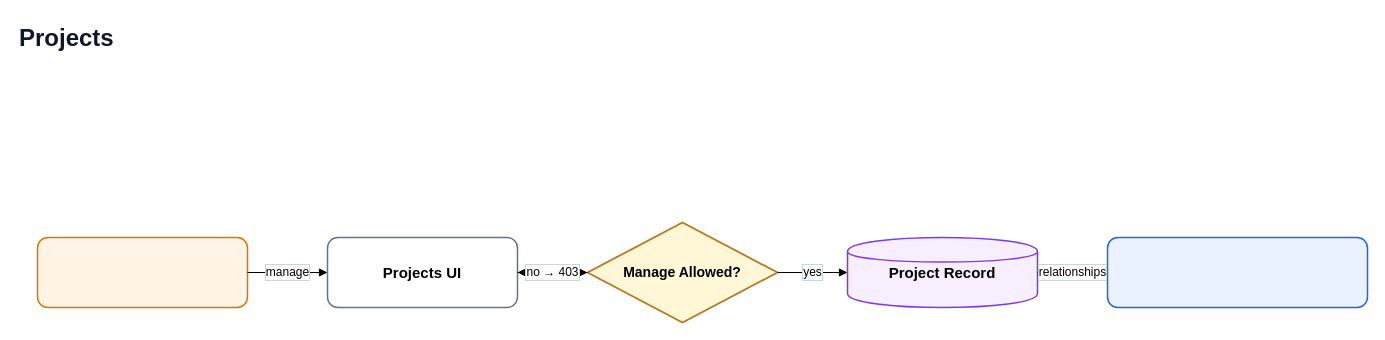
Image size: 1385x340. Some labels were removed from this diagram. The shapes that lost their labels are listed below. From the top down, each one's box as (x1, y1, x2, y2) in pixels, then its label:
(36, 236, 248, 308): Authorized Administrator
(1106, 236, 1368, 308): Business Unit + Subscription Assignments
